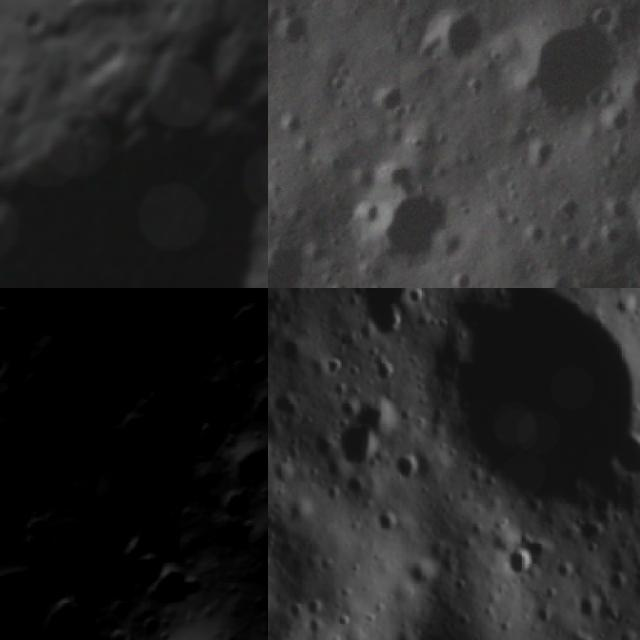crater: (0, 28, 268, 288), (433, 288, 640, 534), (518, 10, 630, 130), (0, 538, 76, 640), (132, 548, 217, 637), (368, 189, 456, 270), (110, 532, 183, 608), (214, 426, 268, 503), (424, 14, 496, 70), (214, 294, 268, 368), (210, 476, 268, 536), (362, 301, 422, 349), (268, 235, 318, 288), (268, 3, 316, 56), (334, 426, 380, 479), (397, 550, 446, 597), (503, 539, 543, 585), (376, 85, 416, 123), (390, 450, 427, 490), (369, 504, 405, 544), (599, 563, 638, 599), (611, 434, 640, 480), (0, 339, 23, 394)
